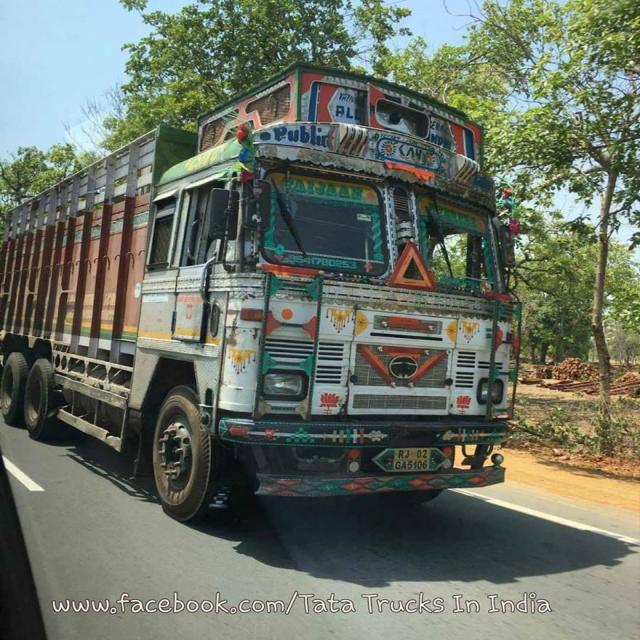truck: (0, 45, 529, 544)
